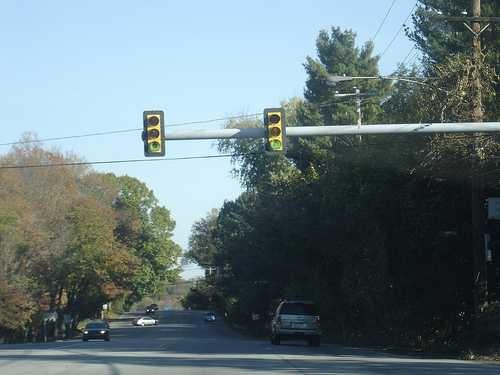green: (263, 104, 289, 157)
